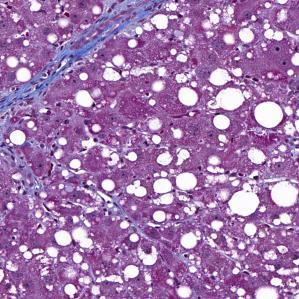fibrosis: (22, 0, 155, 90)
